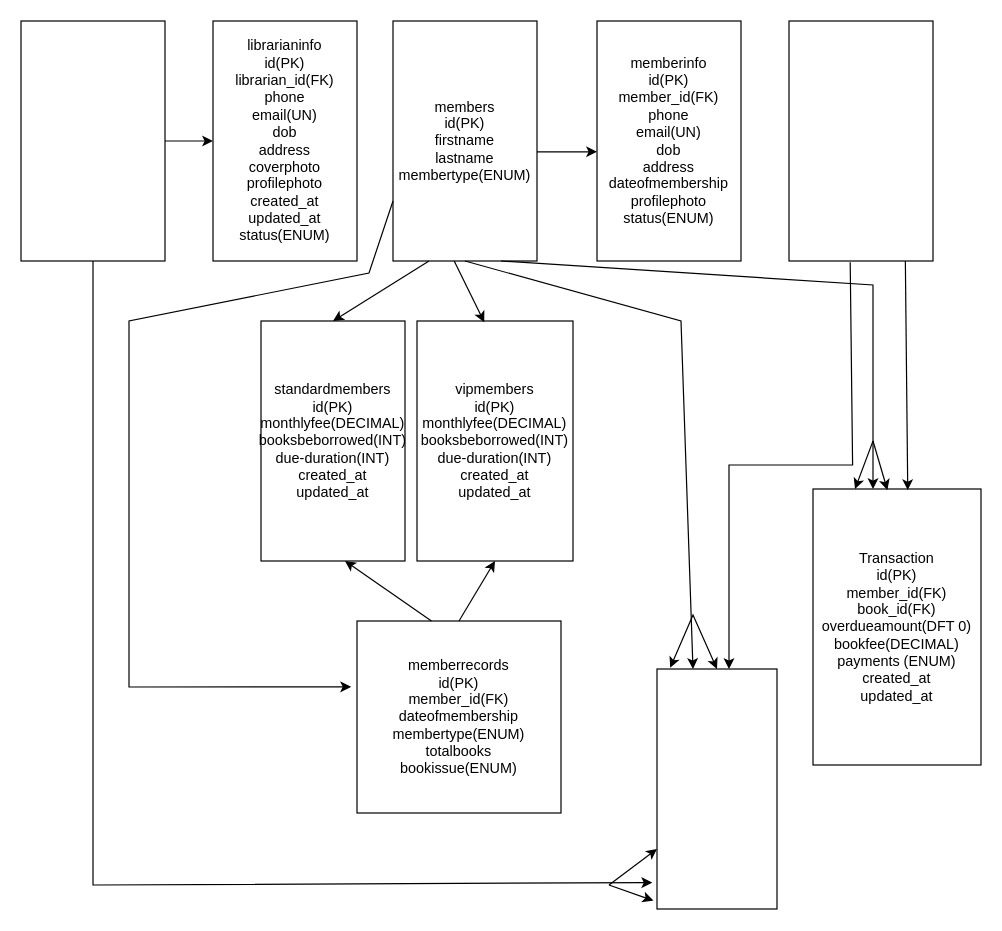
The diagram is 1002 pixels wide and 931 high, and some of its shapes have lost their labels. The centre of each missing label's shape, as x and y in pixels:
"books id(PK) title genre author edition price(DEC) created_at updated_at" belongs at [860,140].
"borrowedby id(PK) member_id(FK) book_id(FK) borrowed_at due_date llibrian_id(FK)" belongs at [716,788].
"librarians id(PK) firstname lastname username password" belongs at [92,140].
